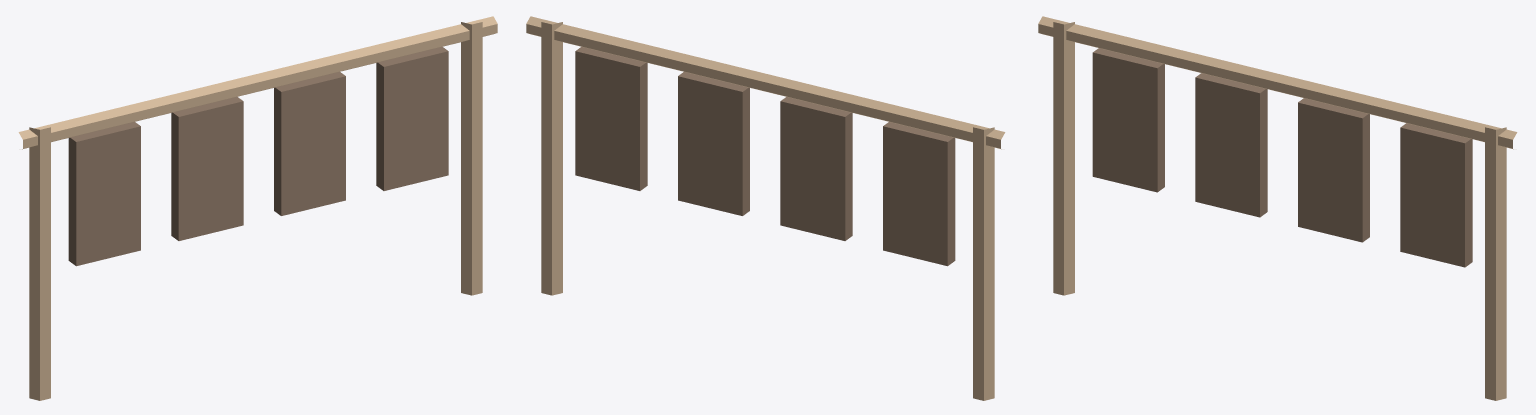
The picture shows the model from 3 angles, left to right: view 1: azimuth 30°, elevation 25°; view 2: azimuth 150°, elevation 25°; view 3: azimuth 330°, elevation 25°; orthographic projection.
Visible parts, largest first — view 1: WB_larchRack; view 2: WB_larchRack; view 3: WB_larchRack.
Part boxes in pixels (x1=…): WB_larchRack: x1=18, y1=16, x2=497, y2=400; WB_larchRack: x1=526, y1=16, x2=1005, y2=400; WB_larchRack: x1=1038, y1=16, x2=1517, y2=400.
Size of the model in its own units: 4.4 by 2.4 by 0.1732.
